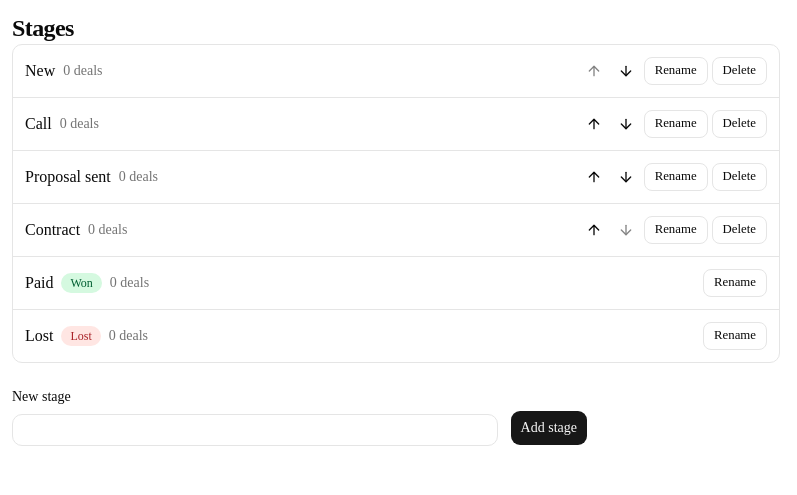
StageManager › should show the new name before the refetch when a rename is saved
This screenshot has width=797, height=495.
Click the button with aria-label "Rename Call" at (676, 124), box [644,110,708,138]
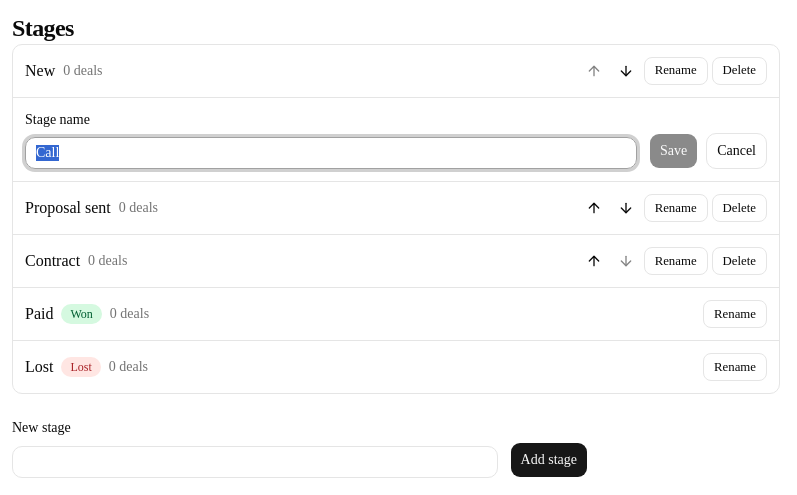
Replace the text in the field labelled "Stage name" with "Discovery call" at (331, 153), box [25,137,637,169]
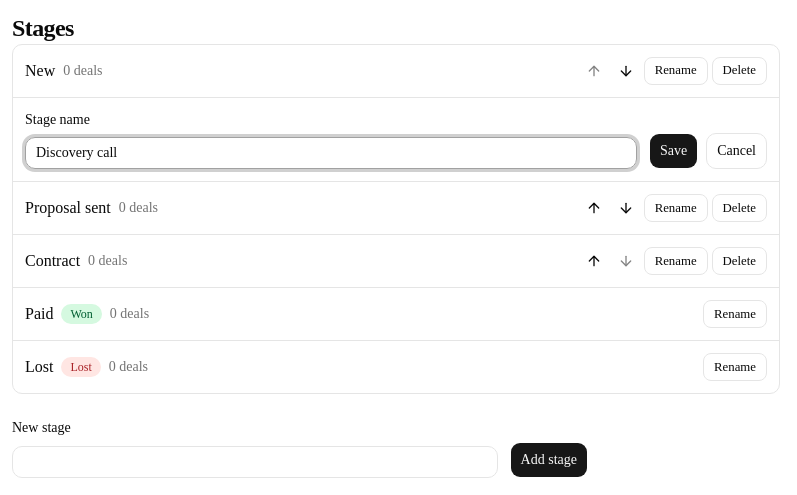
Click the button "Save" at (674, 151), box [649,133,698,169]
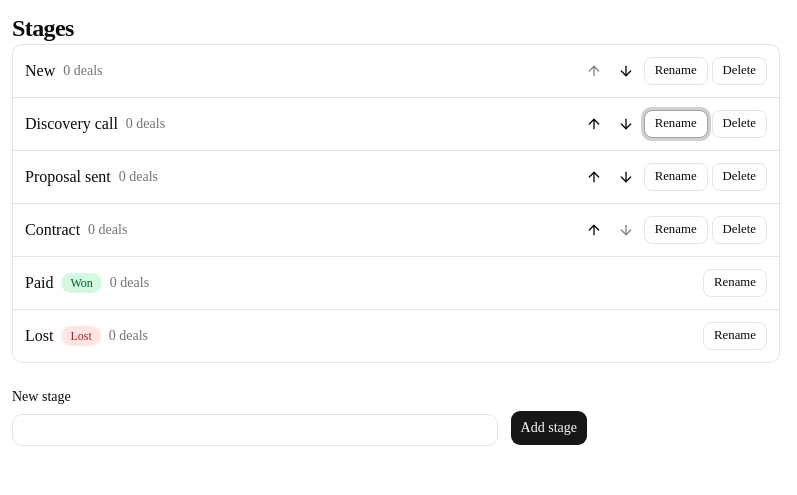
Check: the text "Discovery call" is shown, box [25,112,118,136]
